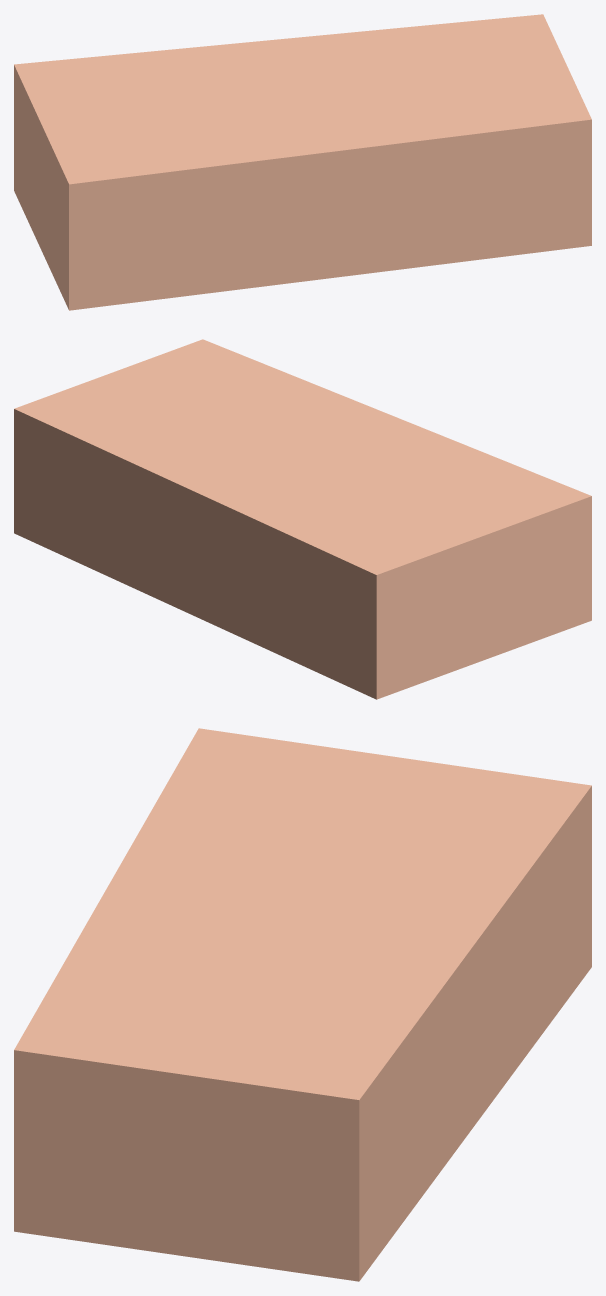
Rendered from Building.dae.
3 renders of one model, top to bottom at view 1: azimuth 30°, elevation 25°; view 2: azimuth 150°, elevation 25°; view 3: azimuth 270°, elevation 25°, orthographic. The views are drawn at different scales.
Parts seen in each view (by area): view 1: Building; view 2: Building; view 3: Building.
Part boxes in pixels (x1,y1,x2,y2): Building: [14, 14, 591, 310]; Building: [14, 339, 591, 699]; Building: [14, 728, 591, 1281].
Bounding box in the file's own units: 15.82 × 10.39 × 3.6.
